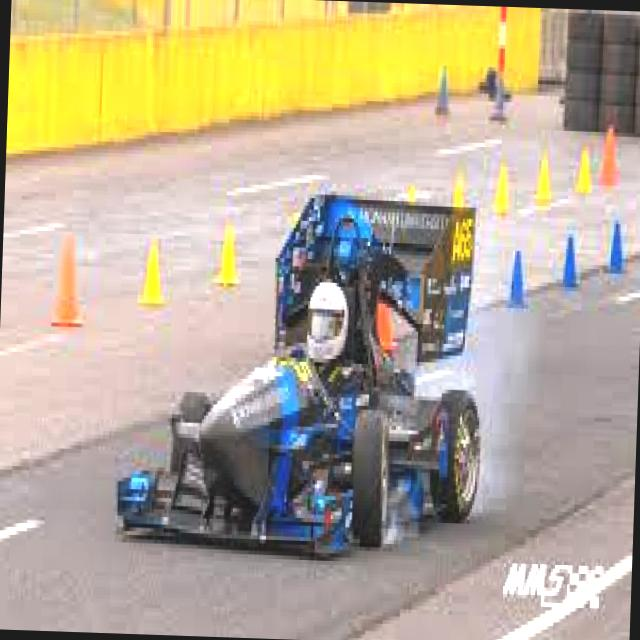blue_cone: (504, 251, 528, 309), (559, 234, 579, 286), (606, 222, 624, 272)
yellow_cone: (138, 241, 168, 305), (214, 229, 242, 285), (493, 167, 512, 215), (534, 157, 554, 201), (576, 147, 594, 192)
